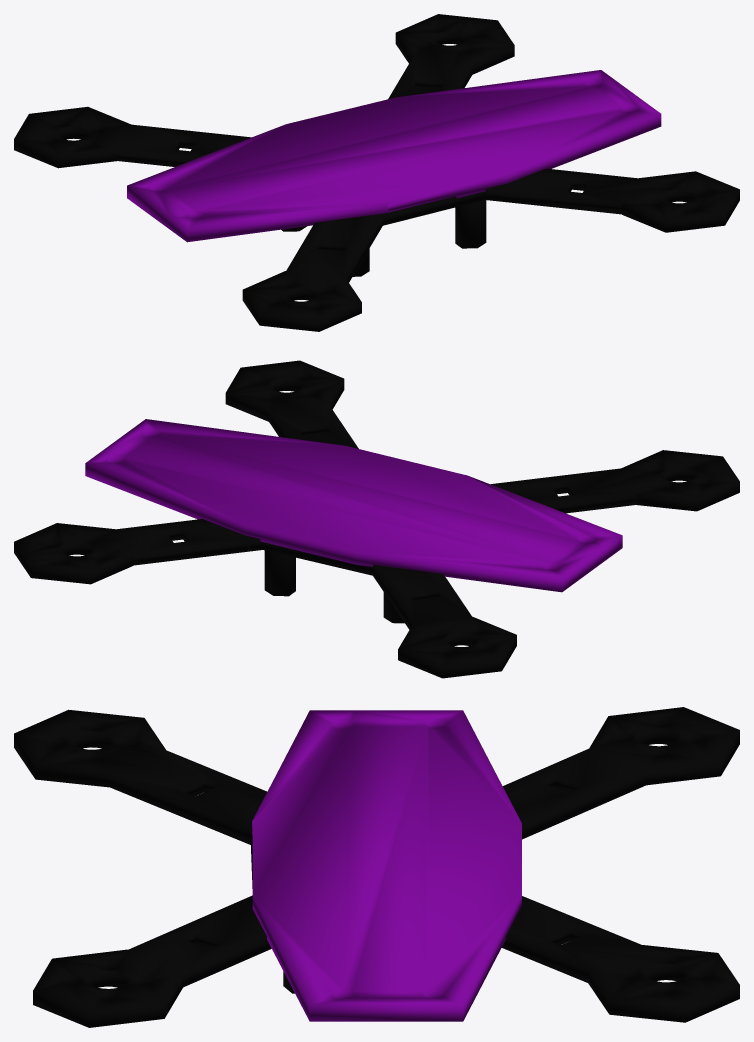
File: custom.dae
3 renders of one model, top to bottom at view 1: azimuth 30°, elevation 25°; view 2: azimuth 150°, elevation 25°; view 3: azimuth 270°, elevation 25°, orthographic. The views are drawn at different scales.
Parts seen in each view (by area): view 1: Combo Board, frame_bottom, Leg.002; view 2: Combo Board, frame_bottom, Leg.003; view 3: Combo Board, frame_bottom.
Part boxes in pixels (box(x1,y1,x2,y2)): Combo Board: box(127, 70, 661, 242); frame_bottom: box(14, 14, 739, 331); Leg.002: box(455, 200, 486, 248); Combo Board: box(85, 419, 622, 592); frame_bottom: box(14, 360, 739, 678); Leg.003: box(264, 550, 295, 596); Combo Board: box(252, 710, 521, 1021); frame_bottom: box(14, 707, 739, 1027).
Size of the model in its own units: 0.0829 by 0.0816 by 0.0126.
